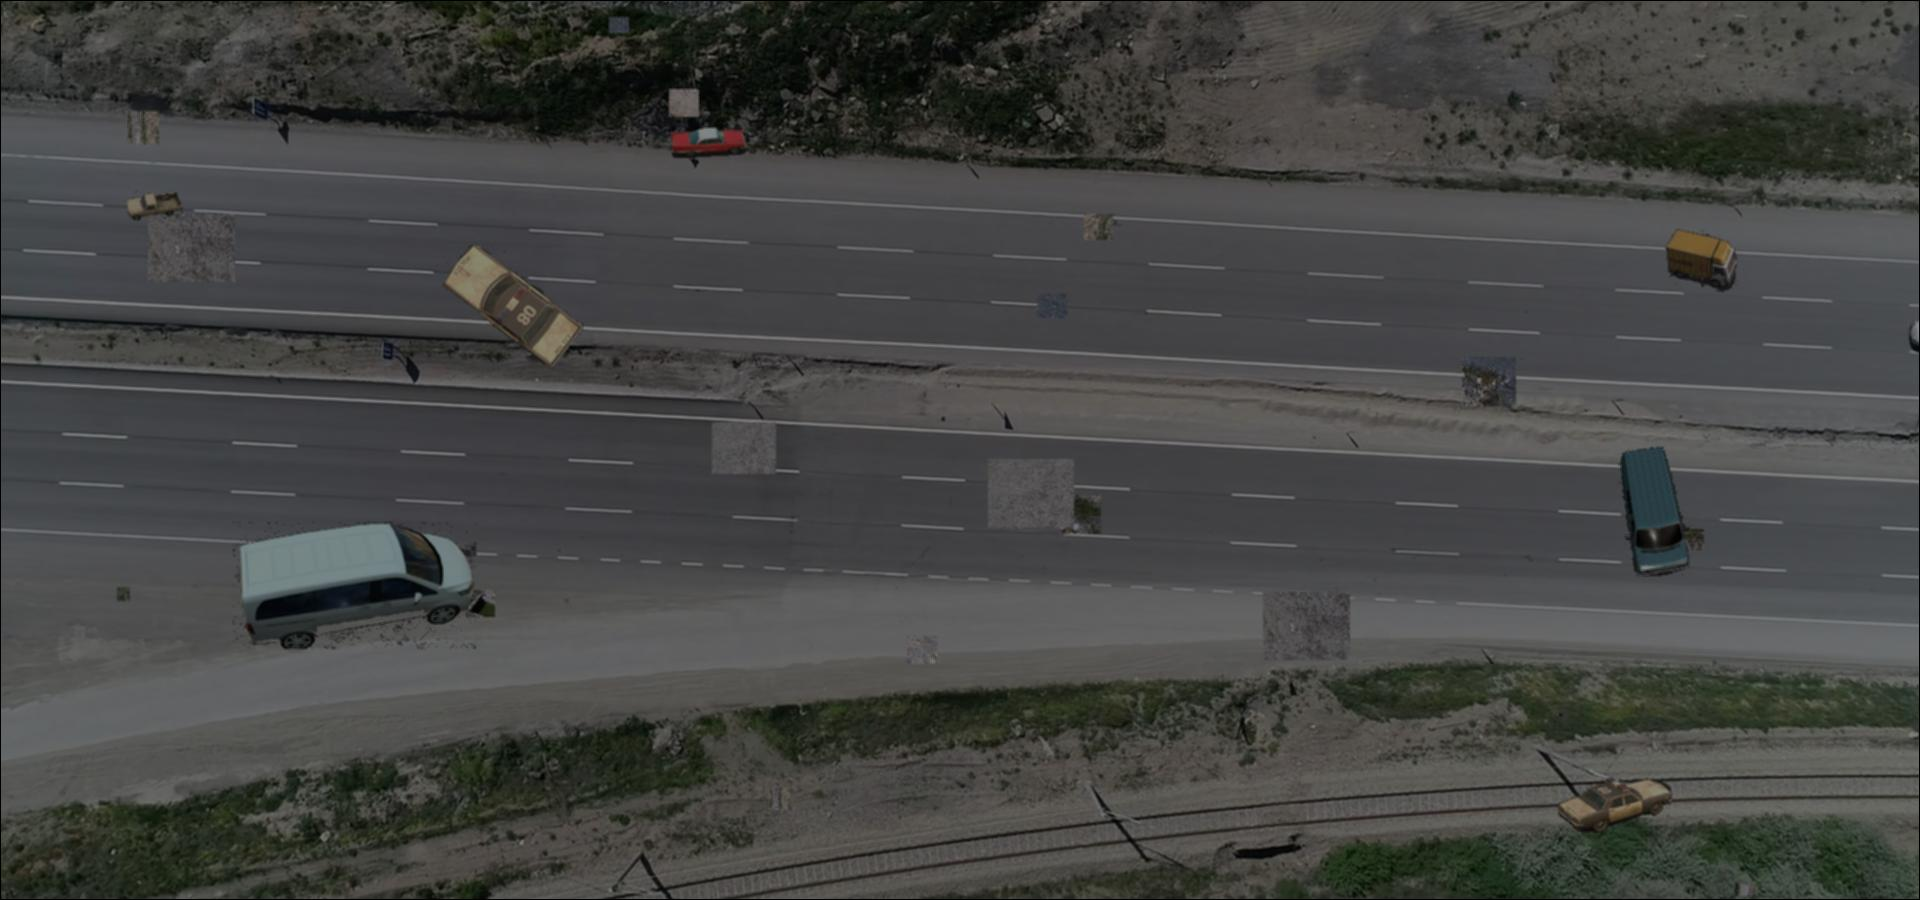arac: (233, 522, 476, 649), (440, 240, 587, 371), (1618, 446, 1691, 576), (1558, 773, 1678, 831), (1664, 229, 1739, 291), (669, 127, 747, 158), (125, 191, 182, 220)
